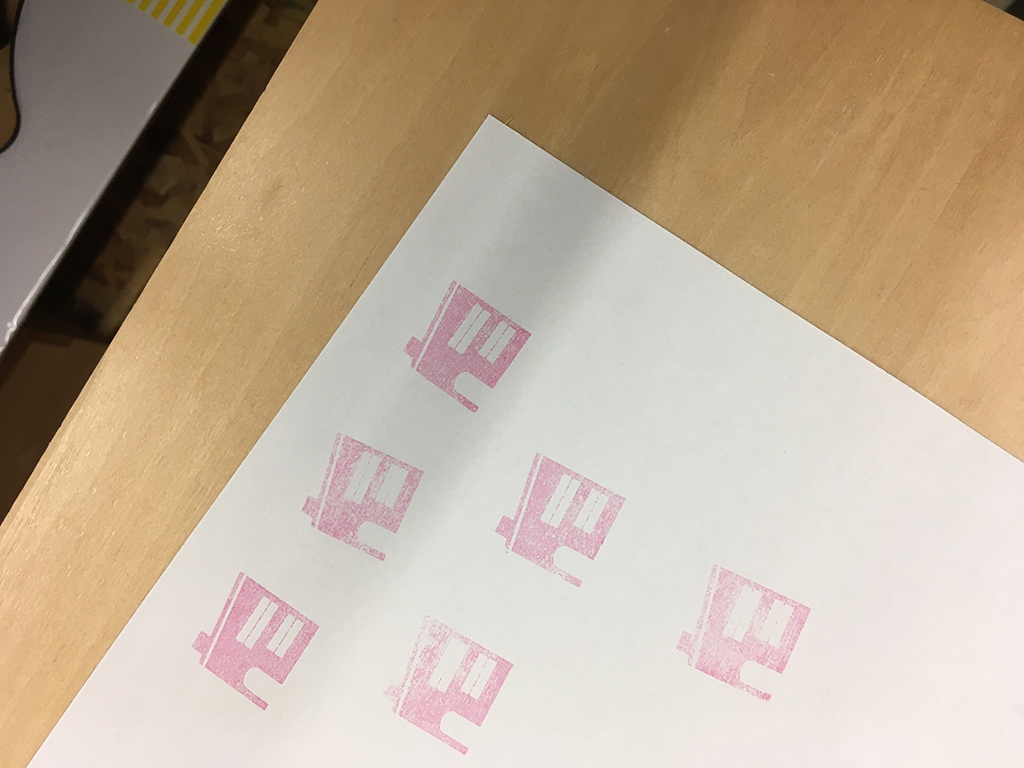house: (667, 558, 815, 709), (375, 606, 520, 759), (486, 444, 631, 595), (186, 563, 326, 719), (293, 424, 430, 574), (396, 272, 535, 418)
